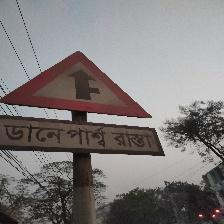Side-road-right: (0, 48, 167, 158)
